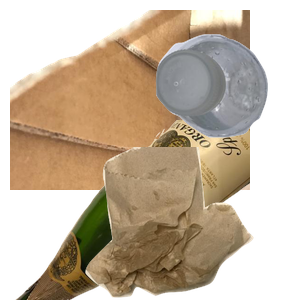cardboard: (10, 10, 250, 190)
glass: (13, 120, 253, 300)
plastic: (153, 31, 300, 161)
trash: (83, 147, 300, 300)
